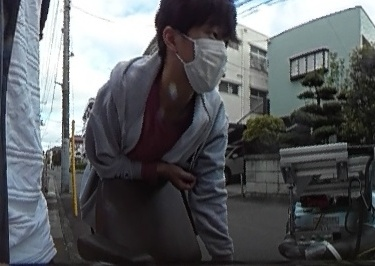person: (93, 0, 235, 266)
